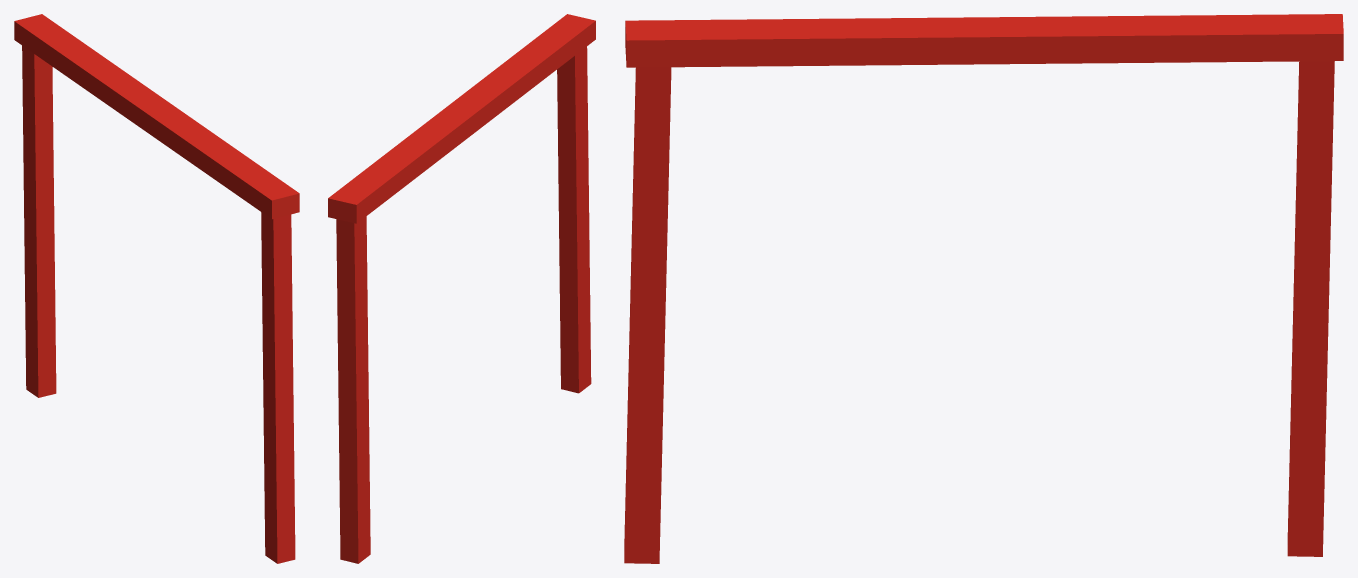
The model's file is Gates.fbx.
3 views of the same model, side by side, from view 1: azimuth 30°, elevation 25°; view 2: azimuth 150°, elevation 25°; view 3: azimuth 270°, elevation 25° (orthographic). The views are drawn at different scales.
Parts seen in each view (by area): view 1: Cube.002, Cube, Cube.001; view 2: Cube.002, Cube.001, Cube; view 3: Cube.002, Cube, Cube.001.
Part boxes in pixels (<box>): Cube.002: <box>14,14,299,219</box>; Cube: <box>261,212,295,563</box>; Cube.001: <box>22,45,56,397</box>; Cube.002: <box>328,14,595,223</box>; Cube.001: <box>336,216,370,563</box>; Cube: <box>557,46,591,393</box>; Cube.002: <box>625,14,1343,67</box>; Cube: <box>624,67,671,563</box>; Cube.001: <box>1287,61,1334,556</box>.
Size of the model in its own units: 36.73 by 340 by 421.
